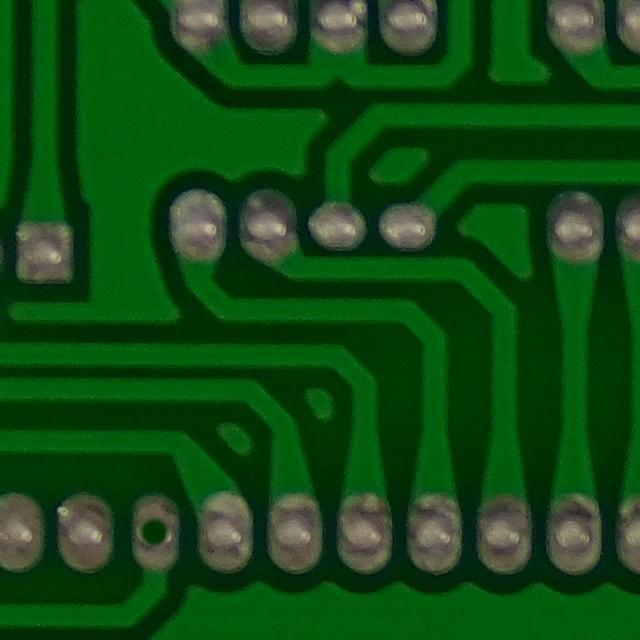missing_hole: (123, 492, 190, 579)
